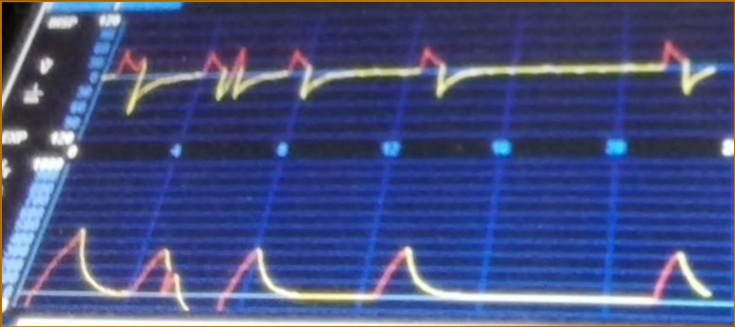Double_Triggering Flow: (112, 24, 711, 138)
Double_Triggering Volume: (41, 217, 710, 311)
